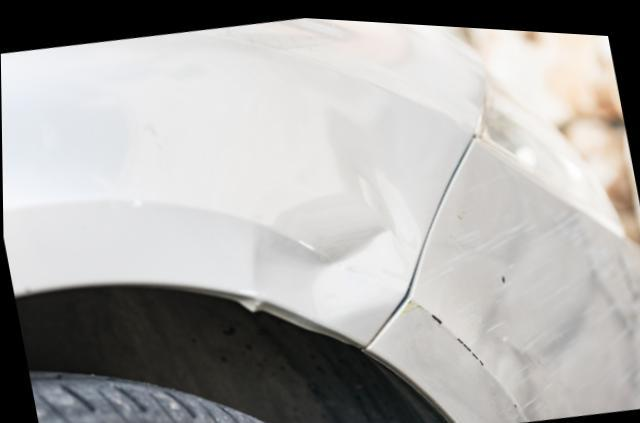dent: (250, 106, 419, 340)
scratch: (410, 186, 640, 419)
